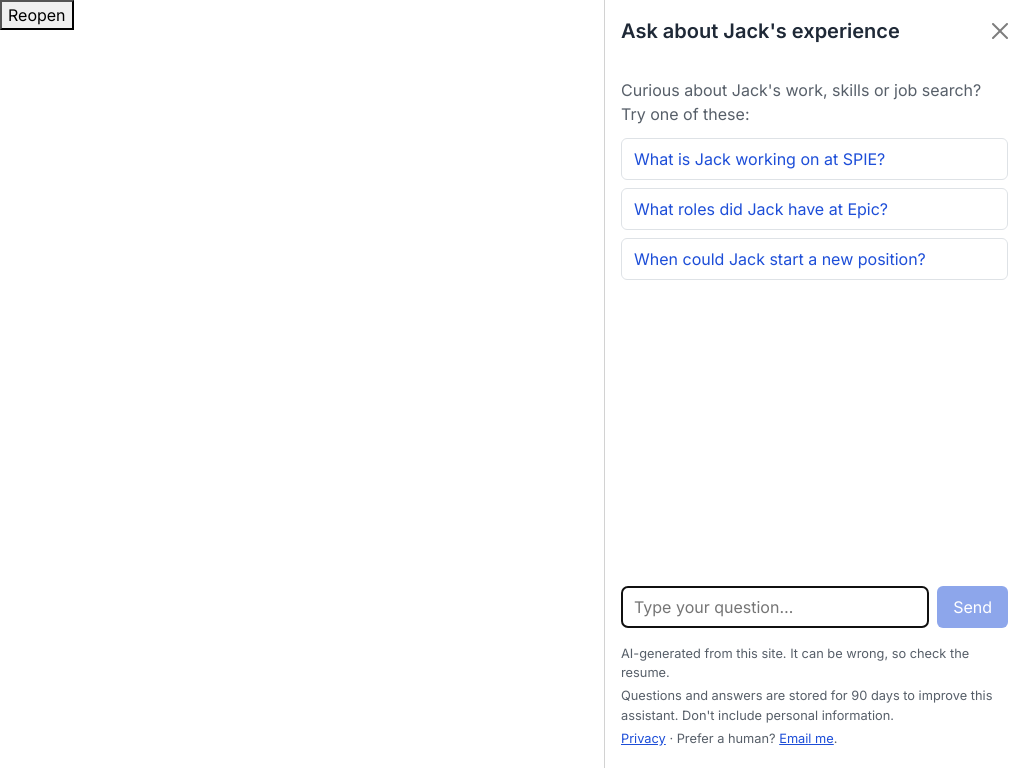
it: AssistantDrawer › tells a rate-limited visitor when to come back, and offers email instead
The width and height of the screenshot is (1024, 768).
Click the button "What is Jack working on at SPIE?": (814, 159) [621,138,1008,180]
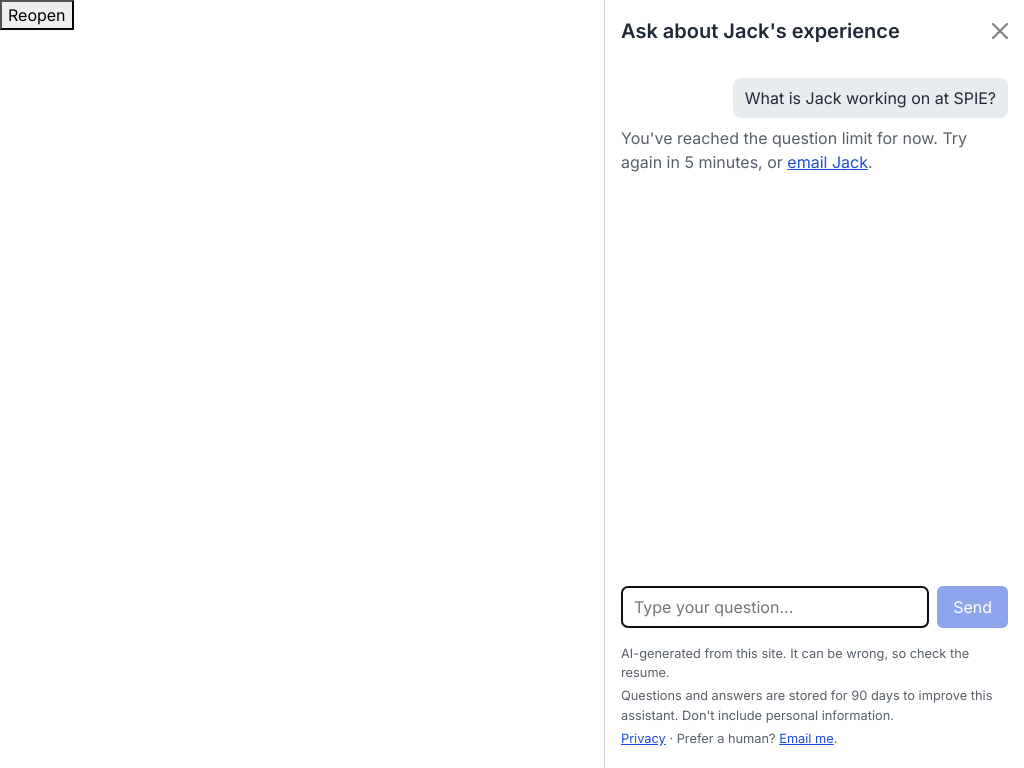
Now the text "question limit for now. Try again in 5 minutes" is shown, box [621,126,989,174]
Now the link "email Jack" is shown, box [787,152,868,172]
